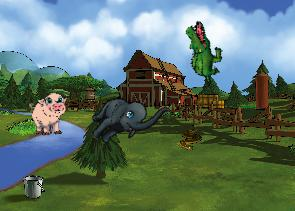crocodile: (170, 18, 235, 87)
elephant: (83, 74, 170, 163)
pig: (29, 93, 69, 136)
